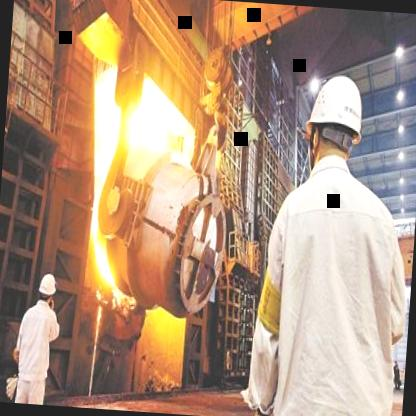helmet: (296, 64, 372, 188), (37, 273, 59, 311)
